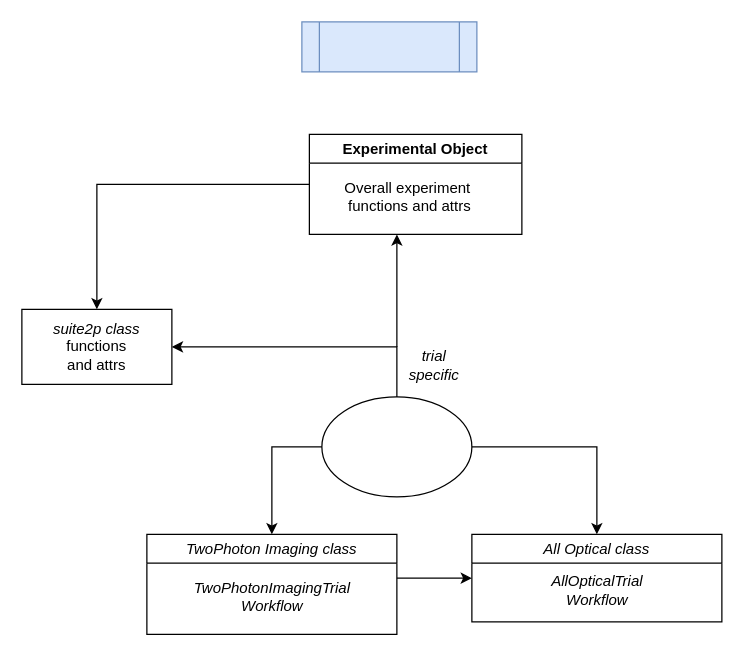
The diagram is 744 pixels wide and 656 high, and some of its shapes have lost their labels. The shapes that lost their labels are listed below. From the top down, each one's centre as x and y in pixels, then its label:
[389,46]: packerlabimaging
[396,446]: Individual trial objects
